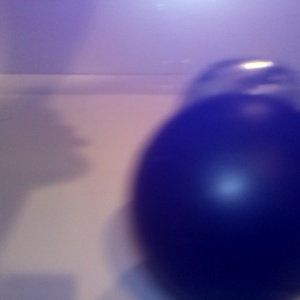alive_ball: (15, 20, 96, 103), (53, 23, 99, 71)
dead_ball: (106, 23, 150, 65)
